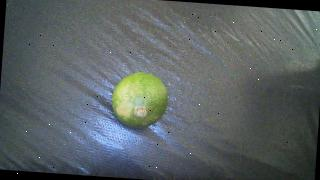DESECHO: (110, 70, 170, 130)
